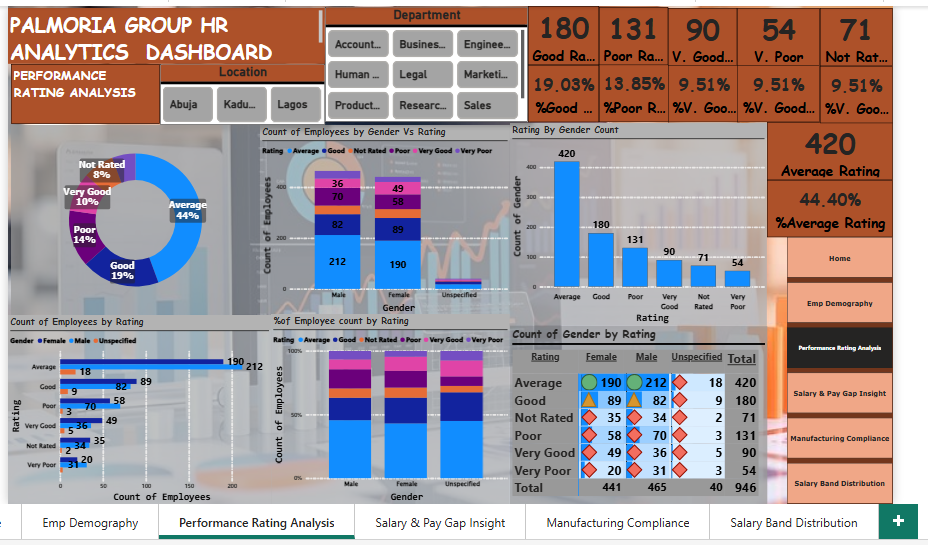

Layout of this report page (visuals, bound fields, positions):
{"tool":"powerbi","page":{"name":"Performance Rating Analysis","canvas":[1920,1080],"ordinal":2},"visuals":[{"type":"textbox","box":[0,4.3,687.5,121.4],"z":0},{"type":"columnChart","title":"Count of Employees by Gender Vs Rating","fields":{"Series":["Employee Data.Rating"],"Category":["Employee Data.Gender"],"Y":["CountNonNull(Employee Data.Name)"]},"box":[546.5,258.1,542.2,412],"z":1000},{"type":"clusteredColumnChart","title":"Rating By Gender  Count","fields":{"Y":["CountNonNull(Employee Data.Gender)"],"Category":["Employee Data.Rating"]},"box":[1088.7,253.7,557.3,440.2],"z":2000},{"type":"pivotTable","title":"Count of Gender by Rating","fields":{"Values":["CountNonNull(Employee Data.Gender)"],"Columns":["Employee Data.Gender"],"Rows":["Employee Data.Rating"]},"box":[1088.7,694.5,557.8,386.1],"z":3000},{"type":"advancedSlicerVisual","fields":{"Values":["Employee Data.Location"]},"box":[329.6,125.8,357.8,132.3],"z":4000},{"type":"advancedSlicerVisual","fields":{"Values":["Employee Data.Department"]},"box":[687.5,2.7,439.8,249.4],"z":5000},{"type":"card","fields":{"Values":["Performance Rating.Good Rating"]},"box":[1127.7,0,154,128],"z":6000},{"type":"card","fields":{"Values":["Performance Rating.%Good Rating"]},"box":[1127.7,128,154,123.6],"z":7000},{"type":"card","fields":{"Values":["Performance Rating.%Poor Rating"]},"box":[1281.7,125.8,151.8,125.8],"z":8000},{"type":"card","fields":{"Values":["Performance Rating.Poor Rating"]},"box":[1281.7,2.2,149.6,125.8],"z":9000},{"type":"card","fields":{"Values":["Performance Rating.V. Poor"]},"box":[1581,4.3,180,125.8],"z":10000},{"type":"card","fields":{"Values":["Performance Rating.V. Good Rating"]},"box":[1431.3,4.3,149.6,125.8],"z":11000},{"type":"card","fields":{"Values":["Performance Rating.%V. Good Rating"]},"box":[1431.3,128,156.1,123.6],"z":12000},{"type":"card","fields":{"Values":["Performance Rating.Not Rated"]},"box":[1761,4.3,158.3,125.8],"z":13000},{"type":"textbox","box":[6.5,125.8,323.1,130.1],"z":14000},{"type":"donutChart","fields":{"Y":["CountNonNull(Employee Data.Gender)"],"Category":["Employee Data.Rating"]},"box":[6.5,258.1,540,412],"z":15000},{"type":"hundredPercentStackedColumnChart","title":"%of Employee count by Rating","fields":{"Series":["Employee Data.Rating"],"Category":["Employee Data.Gender"],"Y":["CountNonNull(Employee Data.Name)"]},"box":[571.2,667.7,517.5,413],"z":16000},{"type":"clusteredBarChart","title":"Count of Employees by Rating","fields":{"Category":["Employee Data.Rating"],"Y":["CountNonNull(Employee Data.Employees)"],"Series":["Employee Data.Gender"]},"box":[0,670.4,571.2,410.3],"z":17000},{"type":"card","fields":{"Values":["Performance Rating.Average Rating"]},"box":[1646,251.6,273.3,125.8],"z":18000},{"type":"card","fields":{"Values":["Performance Rating.%Average Rating"]},"box":[1646,377.3,273.3,123.6],"z":19000},{"type":"card","fields":{"Values":["Performance Rating.%V. Good Rating"]},"box":[1581,128,180,123.6],"z":20000},{"type":"card","fields":{"Values":["Performance Rating.%V. Good Rating"]},"box":[1761,130.1,158.3,123.6],"z":21000},{"type":"pageNavigator","box":[1689.4,501,229.9,579],"z":21001}]}

Visuals, with their boxes on the page's 1920x1080 design canvas (x1, y1, x2, y2). These are canvas units, not pixel positions in the 928x545 screenshot, which may show the page scaled, cropped or inside an application window:
textbox: x1=0, y1=4, x2=688, y2=126
"Count of Employees by Gender Vs Rating" columnChart: x1=546, y1=258, x2=1089, y2=670
"Rating By Gender  Count" clusteredColumnChart: x1=1089, y1=254, x2=1646, y2=694
"Count of Gender by Rating" pivotTable: x1=1089, y1=694, x2=1646, y2=1081
advancedSlicerVisual - Employee Data.Location: x1=330, y1=126, x2=687, y2=258
advancedSlicerVisual - Employee Data.Department: x1=688, y1=3, x2=1127, y2=252
card - Performance Rating.Good Rating: x1=1128, y1=0, x2=1282, y2=128
card - Performance Rating.%Good Rating: x1=1128, y1=128, x2=1282, y2=252
card - Performance Rating.%Poor Rating: x1=1282, y1=126, x2=1434, y2=252
card - Performance Rating.Poor Rating: x1=1282, y1=2, x2=1431, y2=128
card - Performance Rating.V. Poor: x1=1581, y1=4, x2=1761, y2=130
card - Performance Rating.V. Good Rating: x1=1431, y1=4, x2=1581, y2=130
card - Performance Rating.%V. Good Rating: x1=1431, y1=128, x2=1587, y2=252
card - Performance Rating.Not Rated: x1=1761, y1=4, x2=1919, y2=130
textbox: x1=6, y1=126, x2=330, y2=256
donutChart - CountNonNull(Employee Data.Gender) x Employee Data.Rating: x1=6, y1=258, x2=546, y2=670
"%of Employee count by Rating" hundredPercentStackedColumnChart: x1=571, y1=668, x2=1089, y2=1081
"Count of Employees by Rating" clusteredBarChart: x1=0, y1=670, x2=571, y2=1081
card - Performance Rating.Average Rating: x1=1646, y1=252, x2=1919, y2=377
card - Performance Rating.%Average Rating: x1=1646, y1=377, x2=1919, y2=501
card - Performance Rating.%V. Good Rating: x1=1581, y1=128, x2=1761, y2=252
card - Performance Rating.%V. Good Rating: x1=1761, y1=130, x2=1919, y2=254
pageNavigator: x1=1689, y1=501, x2=1919, y2=1080
